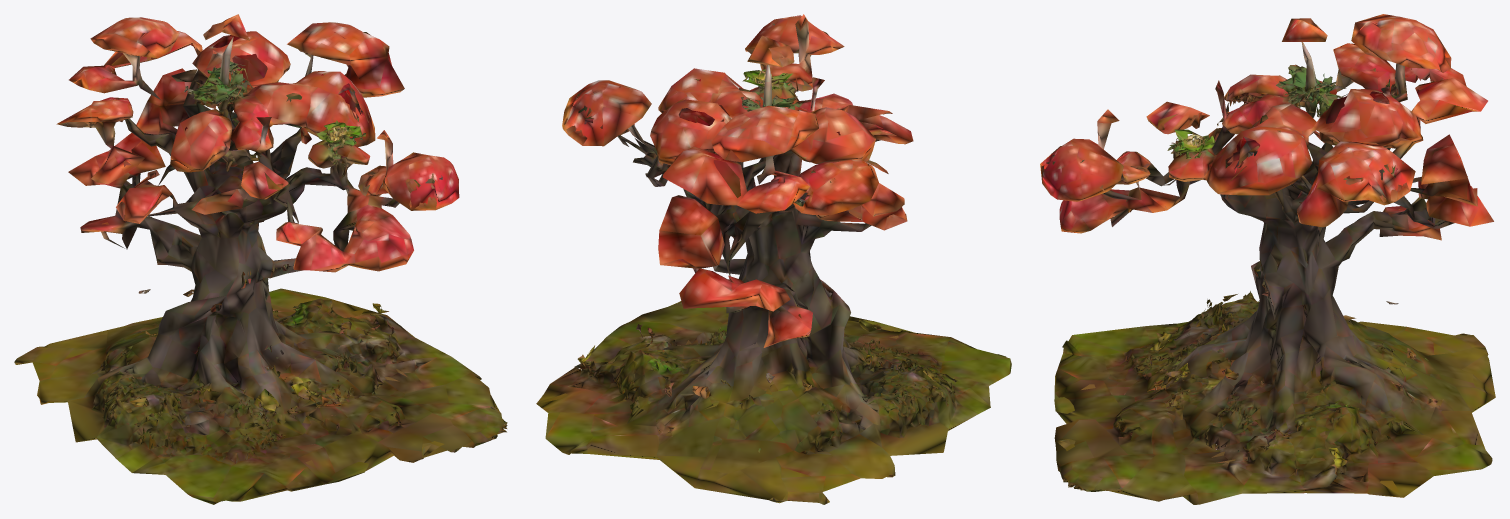
Rendered from mushroomtree.glb.
3 renders of one model, left to right at view 1: azimuth 30°, elevation 25°; view 2: azimuth 150°, elevation 25°; view 3: azimuth 270°, elevation 25°, orthographic. The views are drawn at different scales.
Bounding box in the file's own units: 1.89 × 1.89 × 1.98.
Materials: 1 (1 with a texture image).
